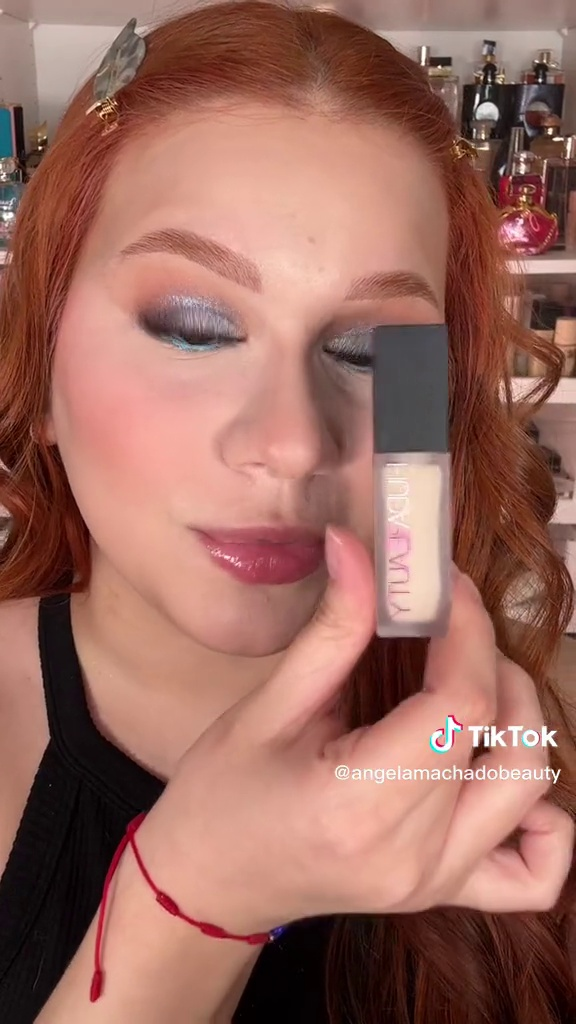train' :'yolo_data/train/images',: (356, 314, 458, 652)
